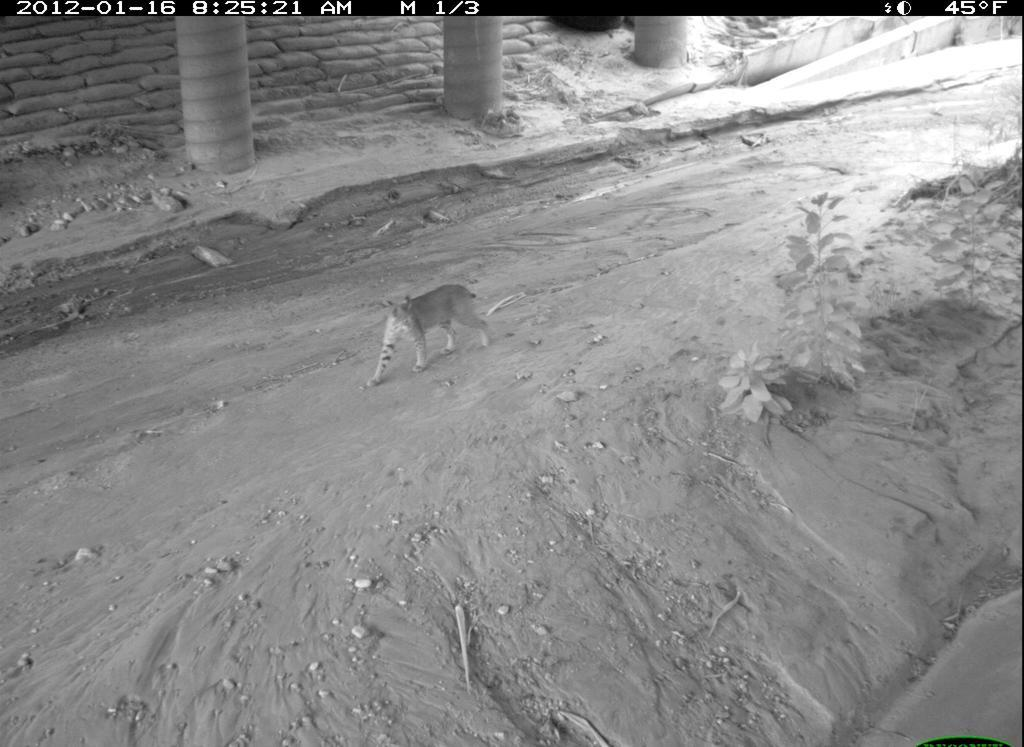bobcat: (356, 272, 506, 393)
